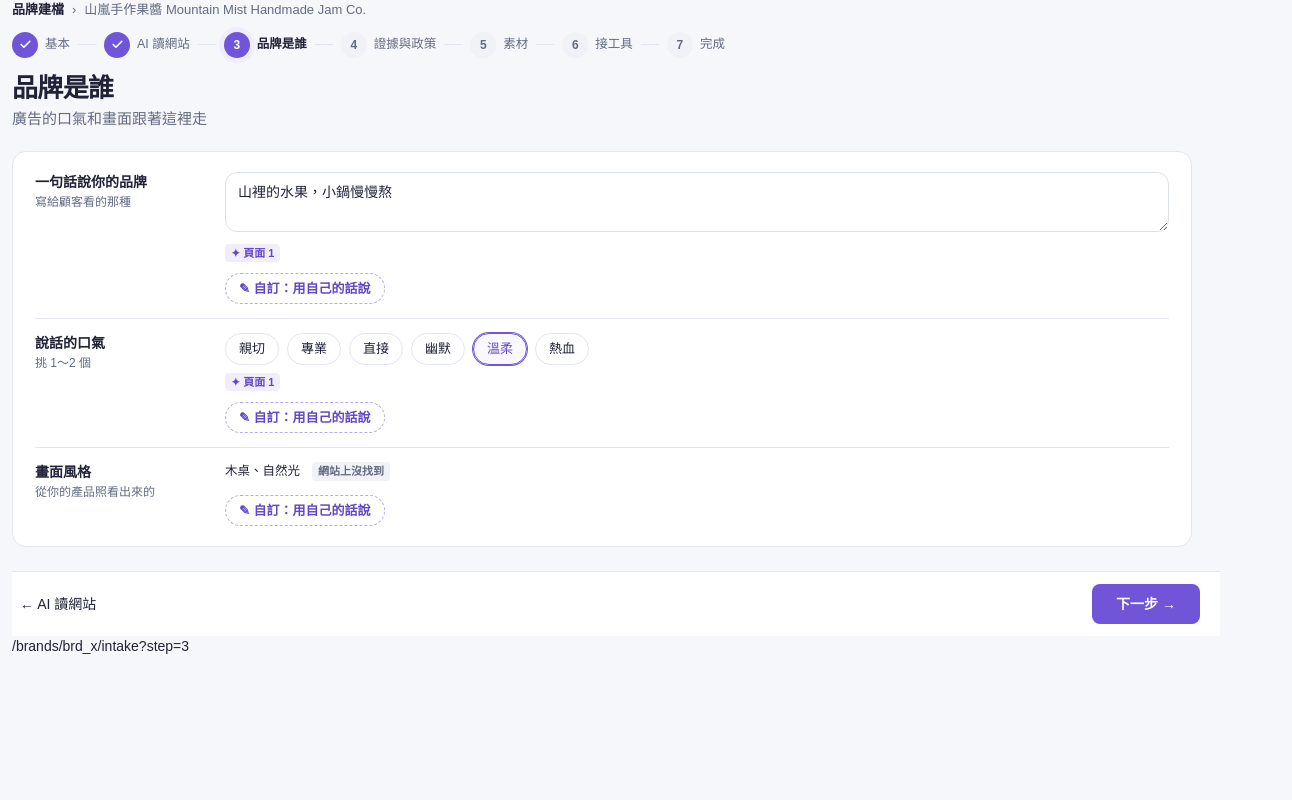
IntakeWizard › 建檔已完成、網址帶 ?step=3：顯示第 3 步，下一步走到 ?step=4，每個步驟點都能點
Expected: the heading "品牌是誰" is shown, [12, 72, 113, 102]
Expected: the button named "回到AI 讀網站" is shown, [104, 32, 130, 58]
Step 1. Click the button "下一步 →" → (1146, 604), box [1092, 584, 1200, 624]
(page scrolled)
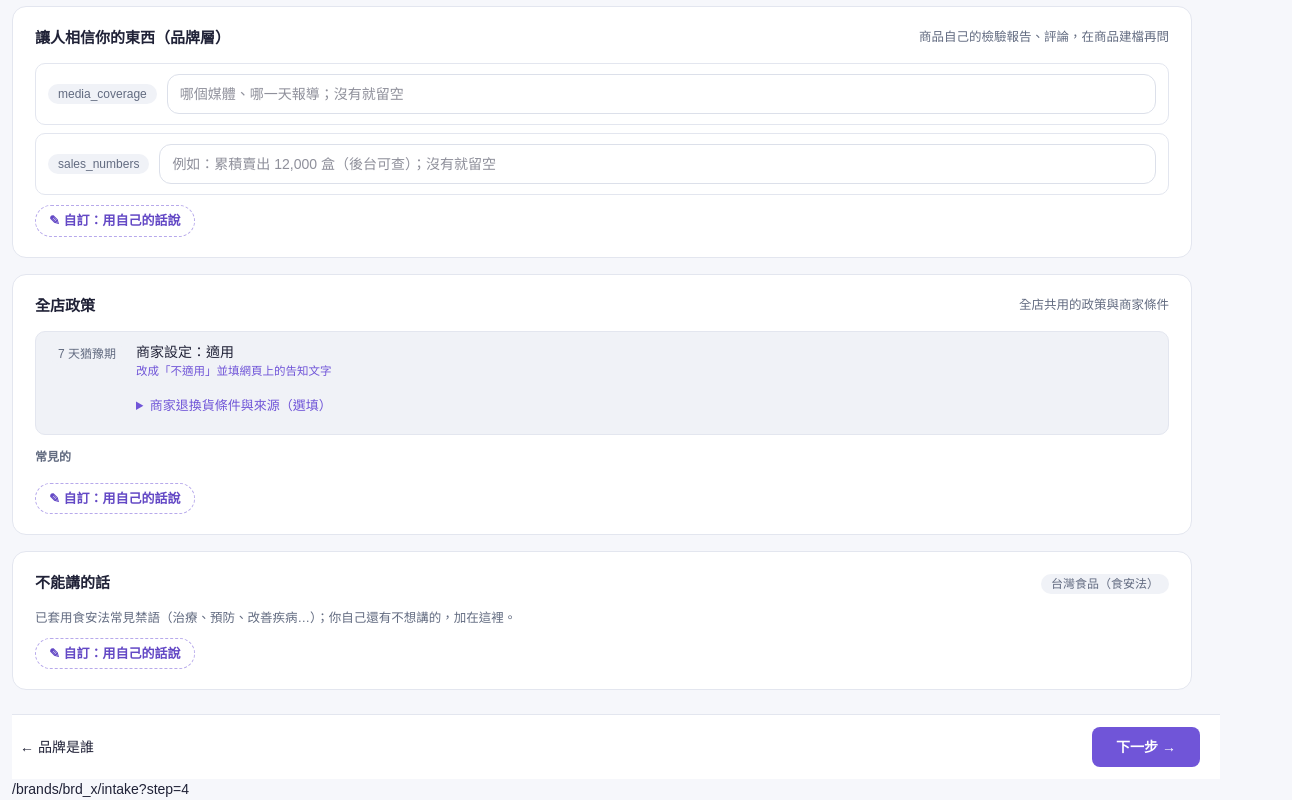
Result: the text with test id "where" reads "/brands/brd_x/intake?step=4" at [12, 781, 189, 797]
